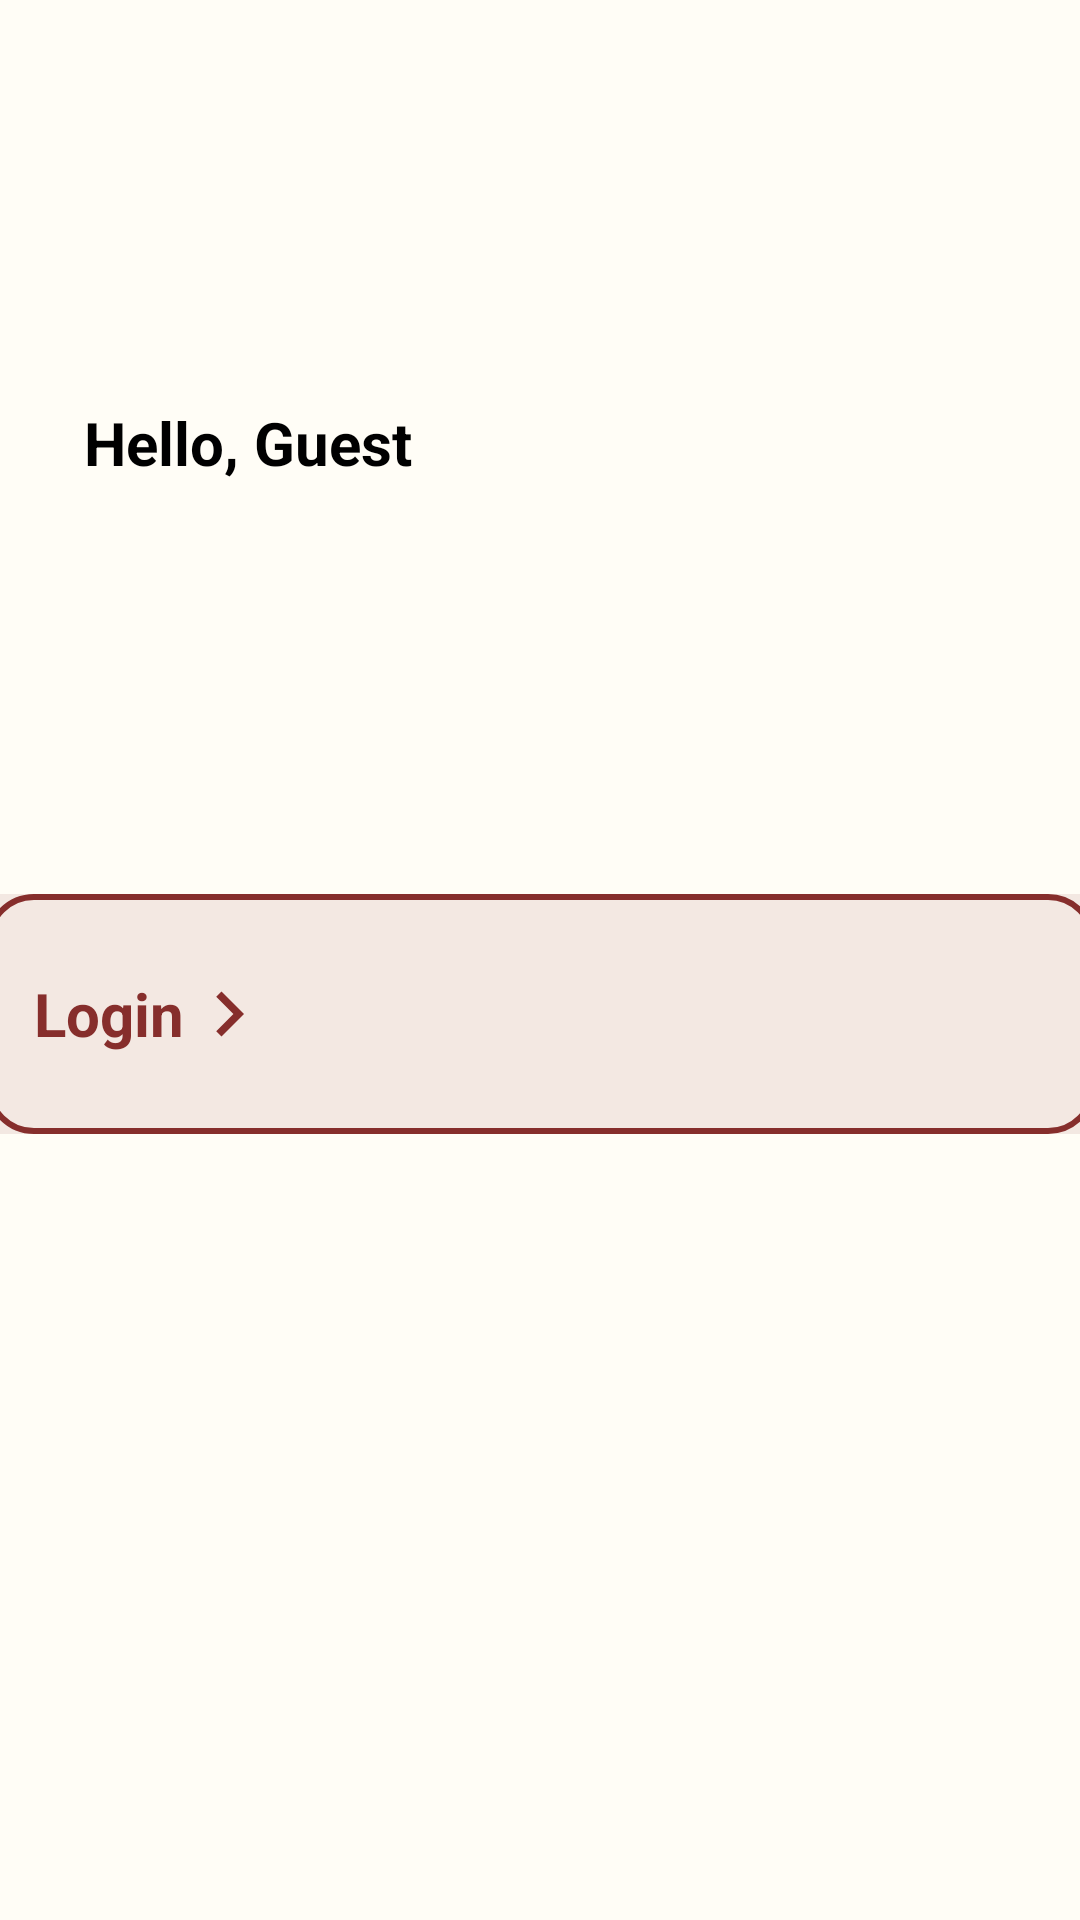

Screen size 1080 x 1920. Icon name, then its box in pixels as {"x1": x1, "y1": y1, "x2": x2, "y2": y2}:
navigate next: {"x1": 216, "y1": 991, "x2": 244, "y2": 1037}
